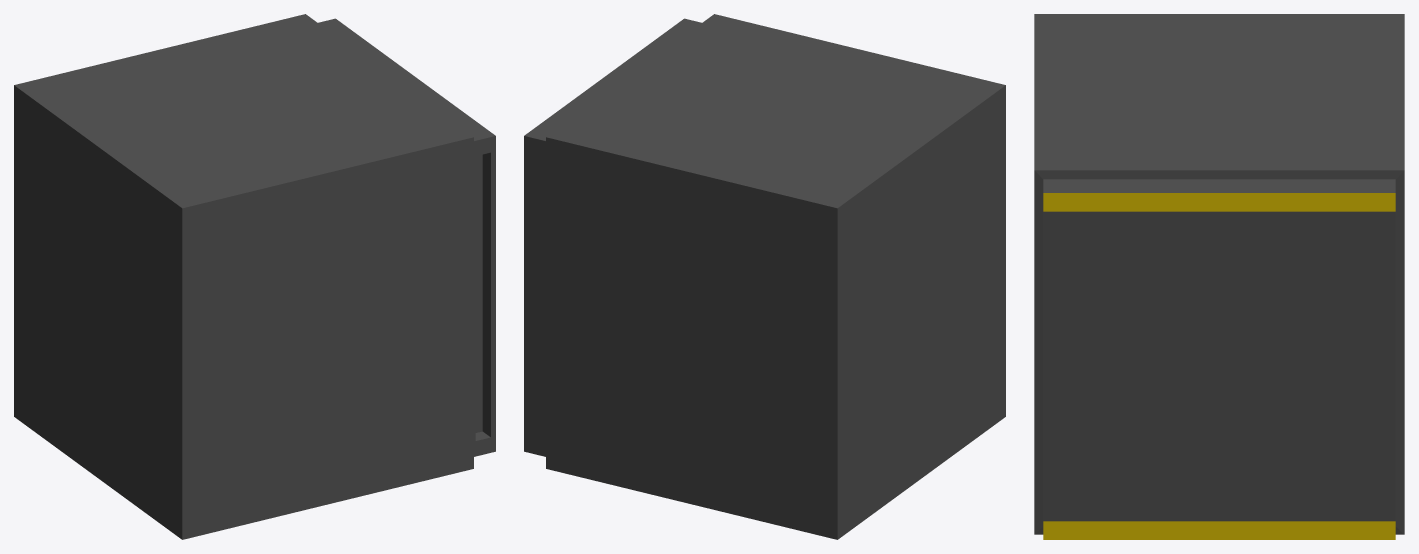
File: BarFridge.fbx
The picture shows the model from 3 angles, left to right: view 1: azimuth 30°, elevation 25°; view 2: azimuth 150°, elevation 25°; view 3: azimuth 270°, elevation 25°; orthographic projection. The views are drawn at different scales.
Visible parts, largest first — view 1: Fridge; view 2: Fridge; view 3: Fridge.
Part boxes in pixels (bbox=[...]): Fridge: bbox=[14, 14, 495, 539]; Fridge: bbox=[524, 14, 1005, 539]; Fridge: bbox=[1034, 14, 1404, 539].
Size of the model in its own units: 5.13 by 5.12 by 4.71.
